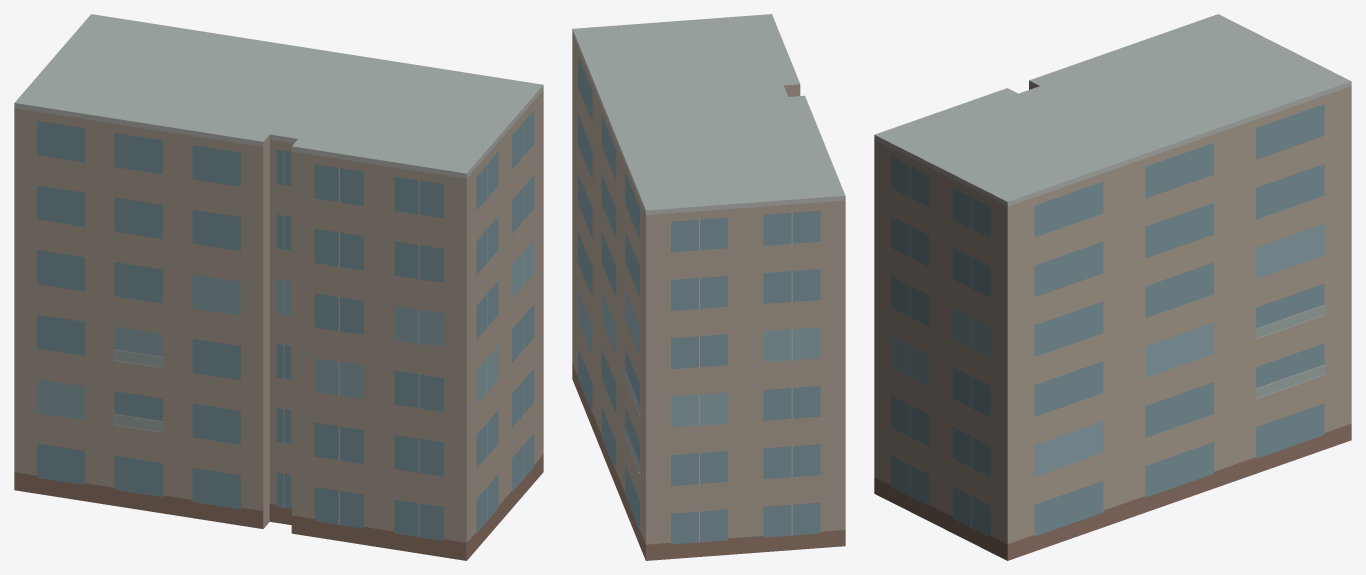
The model's file is survey-upis-32563146.glb.
3 views of the same model, side by side, from view 1: azimuth 30°, elevation 25°; view 2: azimuth 150°, elevation 25°; view 3: azimuth 270°, elevation 25° (orthographic). The views are drawn at different scales.
Parts seen in each view (by area): view 1: survey-upis-32563146.tmp; view 2: survey-upis-32563146.tmp; view 3: survey-upis-32563146.tmp.
Boxes of the visible parts, bbox=[...] form: survey-upis-32563146.tmp: bbox=[14, 14, 543, 560]; survey-upis-32563146.tmp: bbox=[572, 14, 845, 560]; survey-upis-32563146.tmp: bbox=[874, 14, 1351, 560].
Bounding box in the file's own units: 20.55 × 18.3 × 22.06.
